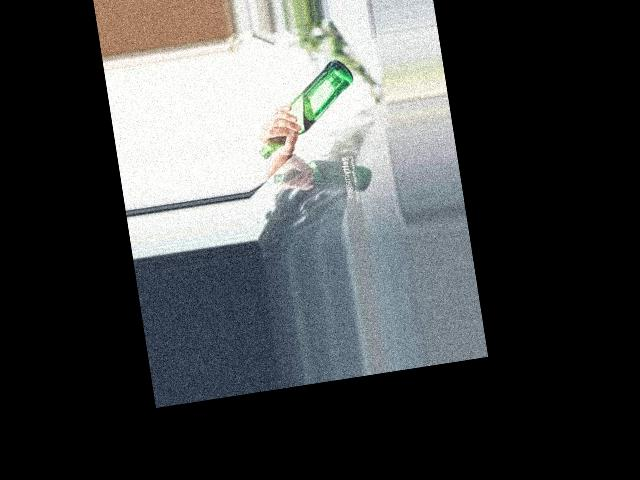beer: (249, 57, 363, 160)
